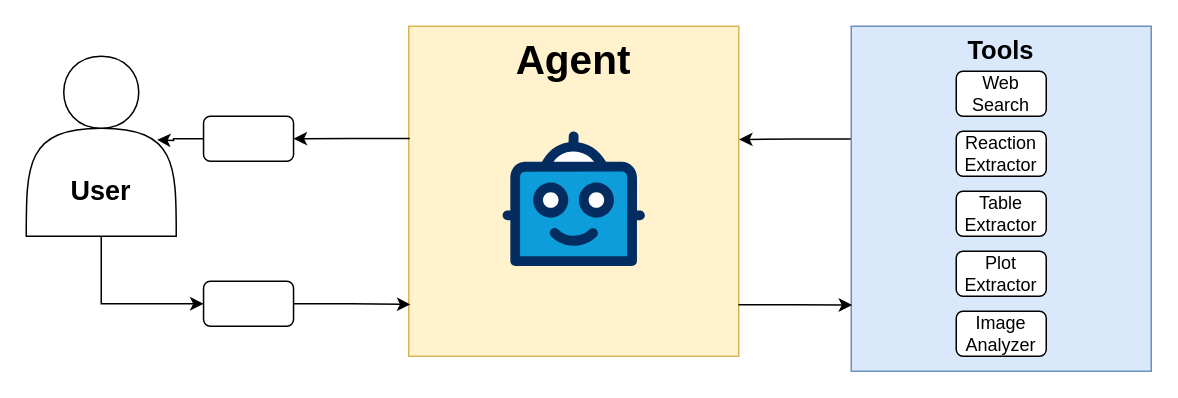
The diagram is 1178 pixels wide and 398 high, and some of its shapes have lost their labels. The centre of each missing label's shape, as x and y in pixels:
"Final Answer" belongs at pixel 248 138.
"Query" belongs at pixel 248 303.
